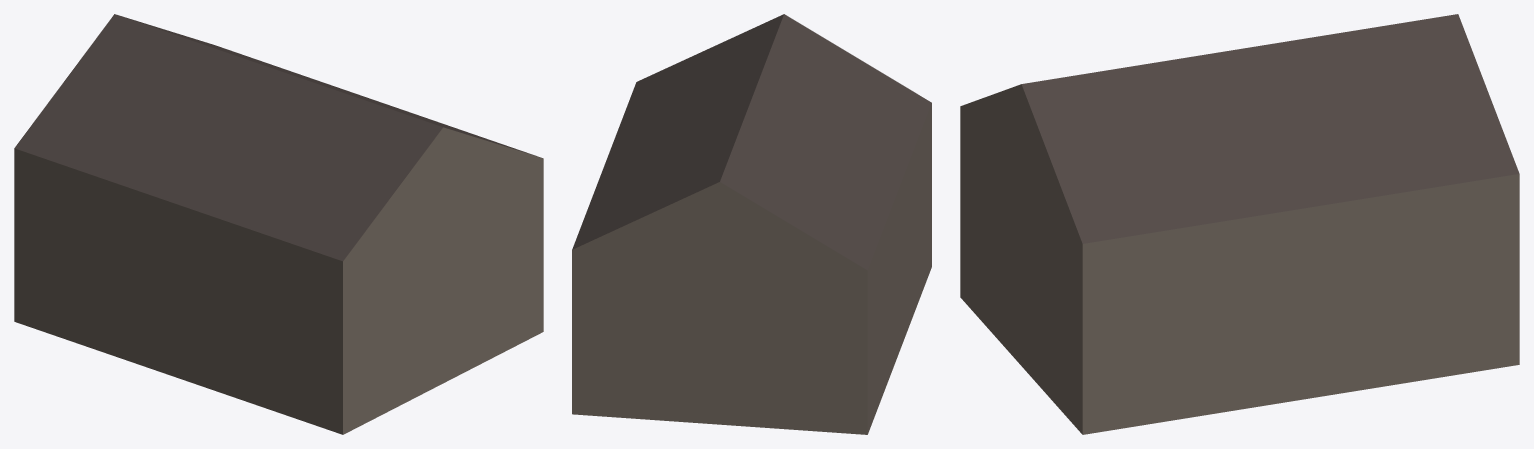
3 views of the same model, side by side, from view 1: azimuth 30°, elevation 25°; view 2: azimuth 150°, elevation 25°; view 3: azimuth 270°, elevation 25° (orthographic). The views are drawn at different scales.
Parts seen in each view (by area): view 1: HP-w293414341; view 2: HP-w293414341; view 3: HP-w293414341.
Part boxes in pixels (x1=…): HP-w293414341: x1=14, y1=14, x2=543, y2=434; HP-w293414341: x1=572, y1=14, x2=931, y2=434; HP-w293414341: x1=960, y1=14, x2=1519, y2=434.
Size of the model in its own units: 14 by 8.86 by 15.92.
